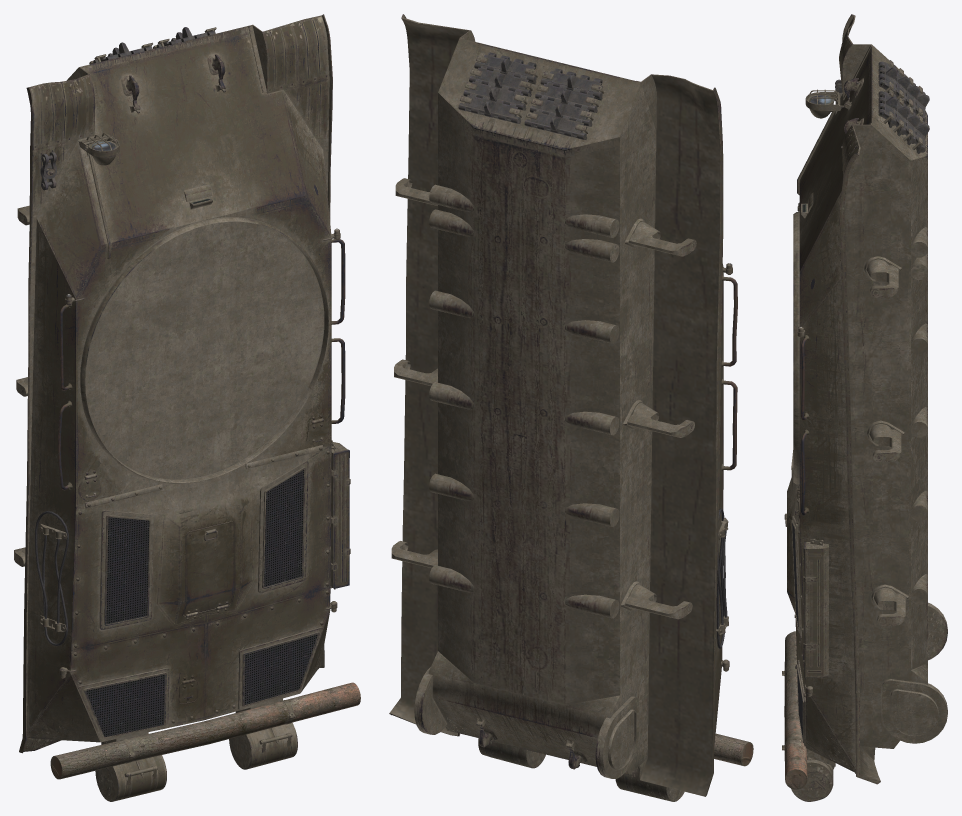
The model's file is Hull.glb.
3 renders of one model, left to right at view 1: azimuth 30°, elevation 25°; view 2: azimuth 150°, elevation 25°; view 3: azimuth 270°, elevation 25°, orthographic. The views are drawn at different scales.
Visible parts, largest first — view 1: set_0_group_0; view 2: set_0_group_0; view 3: set_0_group_0.
Part boxes in pixels (left/top/right/bottom): set_0_group_0: left=14, top=14, right=360, bottom=801; set_0_group_0: left=389, top=14, right=753, bottom=801; set_0_group_0: left=782, top=14, right=947, bottom=801.
Size of the model in its own units: 3.11 by 7.02 by 1.56.
Materials: 1 (1 with a texture image).
